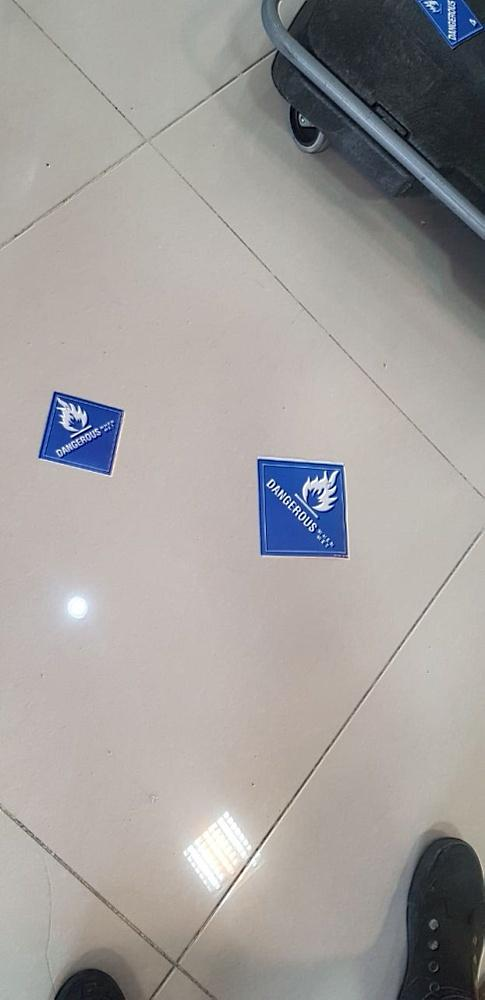dangerous-when-wet: (259, 458, 348, 560), (40, 393, 123, 476)
